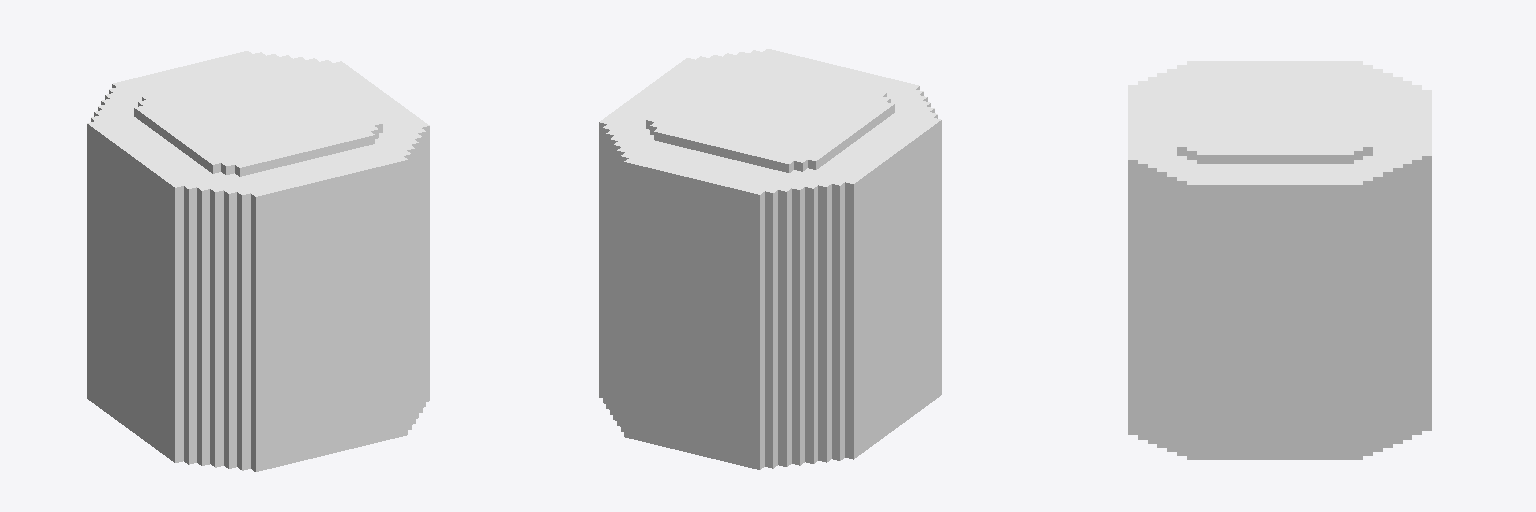
The model's file is Oil.obj.
3 renders of one model, left to right at view 1: azimuth 30°, elevation 25°; view 2: azimuth 150°, elevation 25°; view 3: azimuth 270°, elevation 25°, orthographic.
Parts seen in each view (by area): view 1: object 1; view 2: object 1; view 3: object 1.
Boxes of the visible parts, box(x1,y1,x2,y2) form: object 1: box(87, 51, 429, 471); object 1: box(599, 49, 941, 469); object 1: box(1128, 61, 1431, 459).
Bounding box in the file's own units: 3 × 3.2 × 3.1.